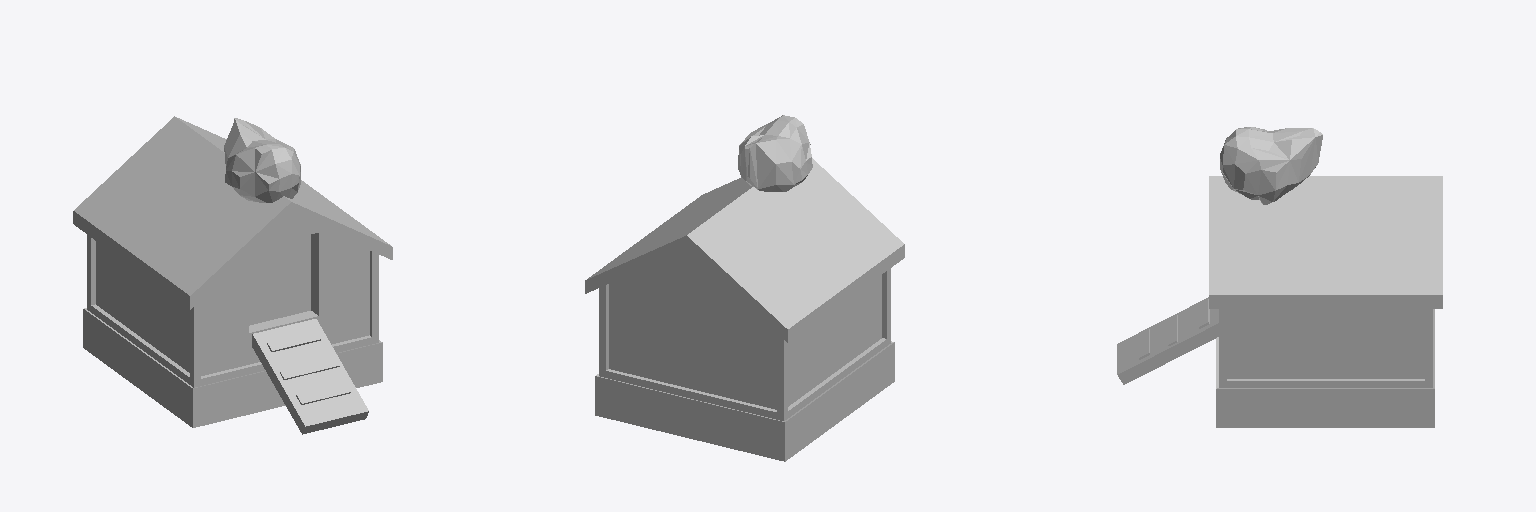
3 views of the same model, side by side, from view 1: azimuth 30°, elevation 25°; view 2: azimuth 150°, elevation 25°; view 3: azimuth 270°, elevation 25° (orthographic).
Visible parts, largest first — view 1: chikencoopbody_Cube.043; view 2: chikencoopbody_Cube.043; view 3: chikencoopbody_Cube.043.
Boxes of the visible parts, box(x1,y1,x2,y2) form: chikencoopbody_Cube.043: box(73, 116, 392, 434); chikencoopbody_Cube.043: box(585, 115, 904, 461); chikencoopbody_Cube.043: box(1117, 127, 1442, 427).
Bounding box in the file's own units: 2.08 × 2.47 × 2.89.